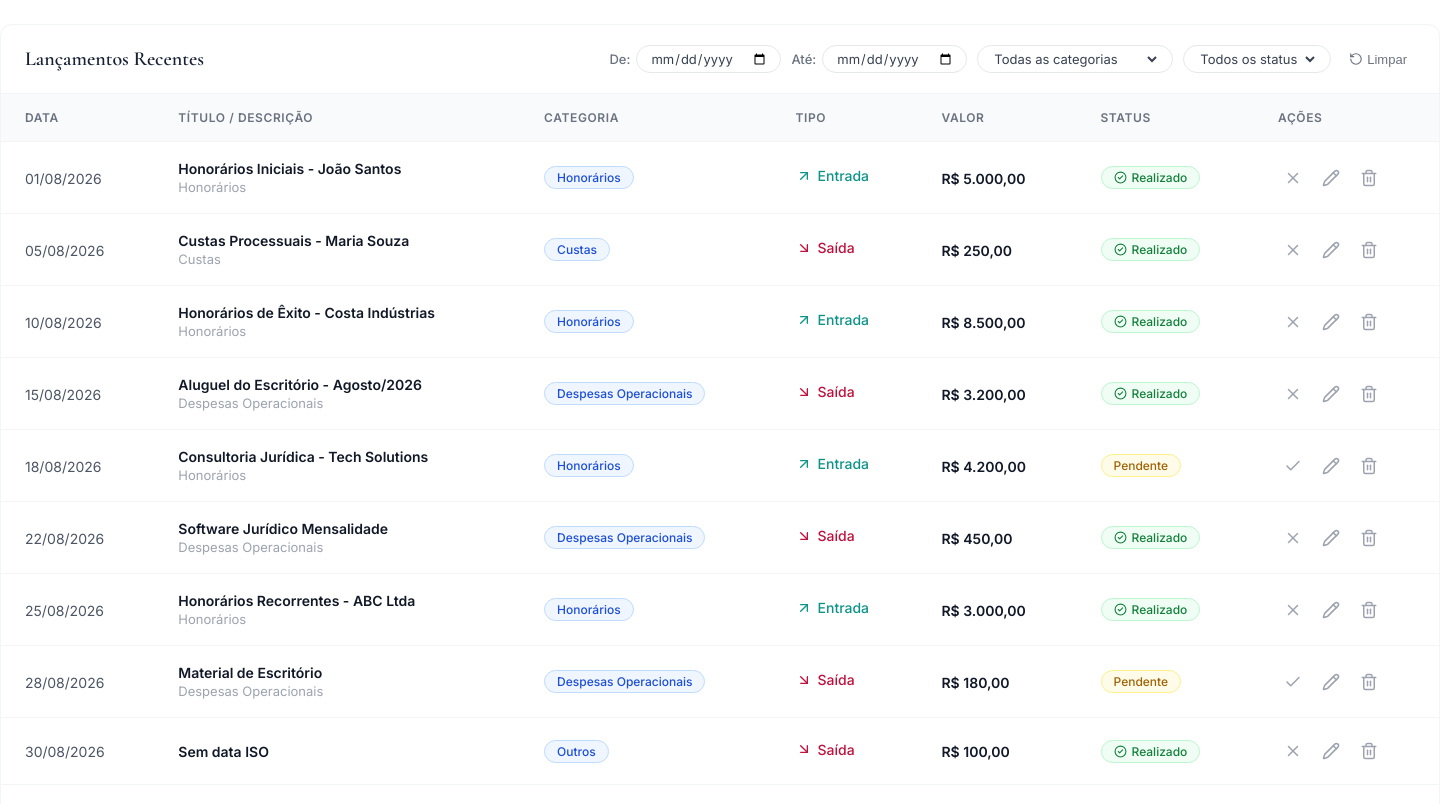
Test case: LancamentosTable › filtra corretamente para categoria Outros ocultando lançamentos de outras categorias
Select "Outros" in the dropdown named "Filtrar por categoria": [1075, 59] box [990, 50, 1160, 68]
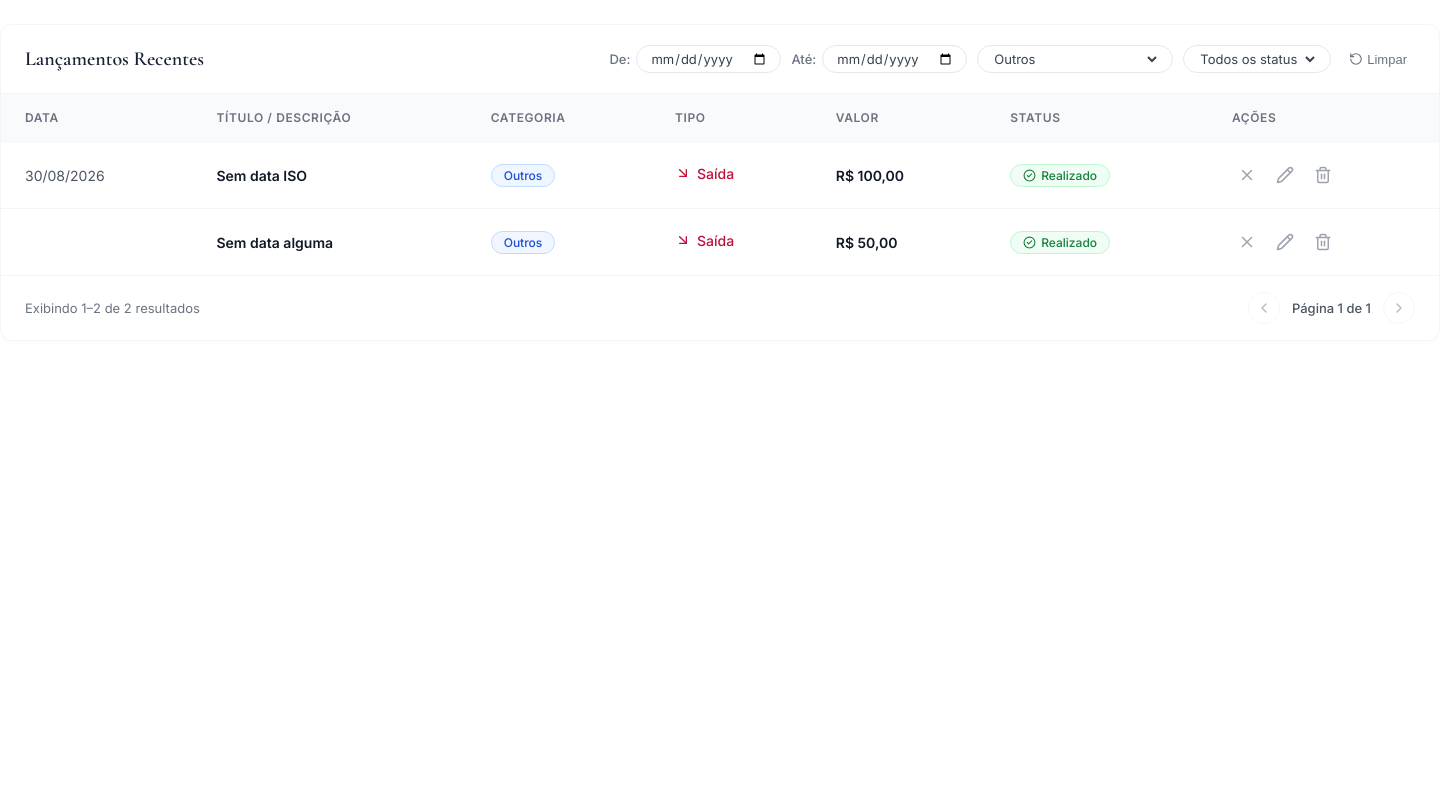
Expected: the text "Sem data ISO" is shown, [216, 166, 307, 184]
Now the text "Honorários Iniciais - João Santos" is gone
Now the text "Custas Processuais - Maria Souza" is gone
